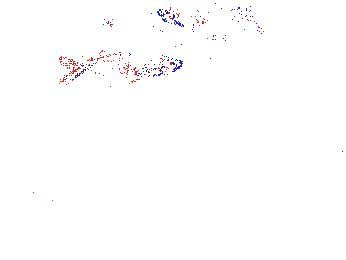glassfish: (84, 8, 213, 73)
redtail glassfish: (61, 50, 184, 85), (155, 1, 266, 27), (198, 19, 269, 38)
